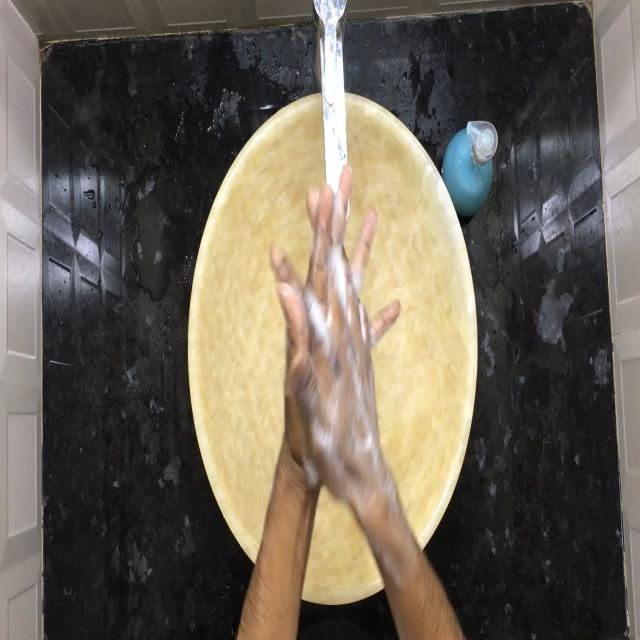step_3: (267, 154, 401, 476)
